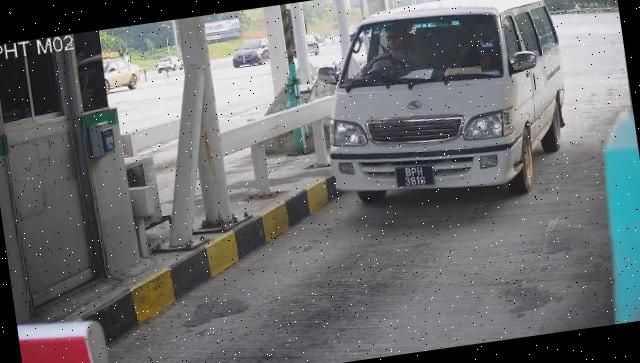License_Plate: (395, 163, 438, 193)
van: (312, 1, 580, 219)
